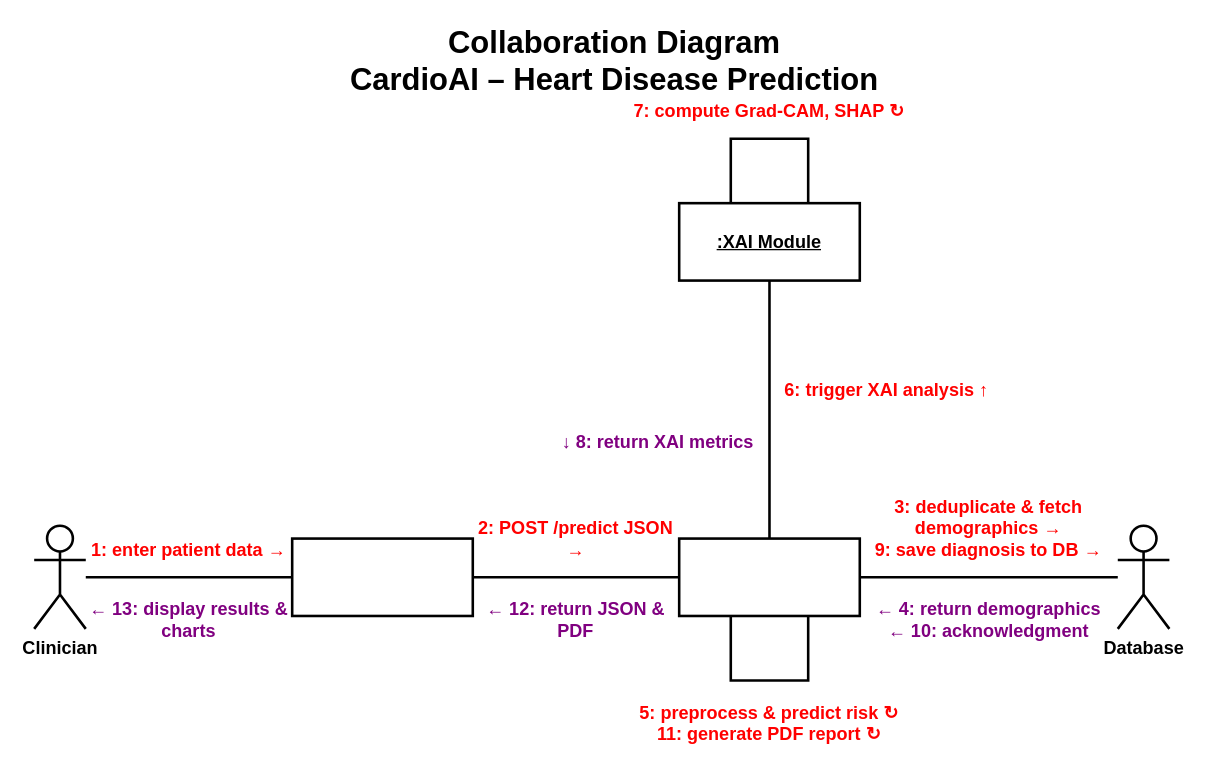
Some shapes in this 1205 by 779 pixel diagram are drawn without their labels. Each missing label, with the centre of its shape:
:Flask Server: pixel 768 577
:Frontend WebApp: pixel 381 577
